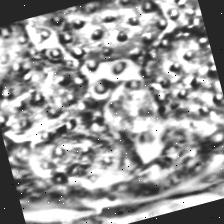Anthracnose Fruit Rot: (0, 0, 224, 212)
